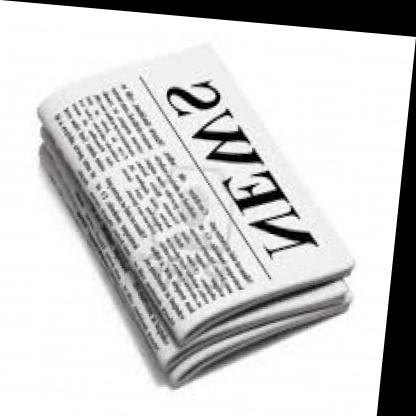Paper: (4, 18, 383, 394)
